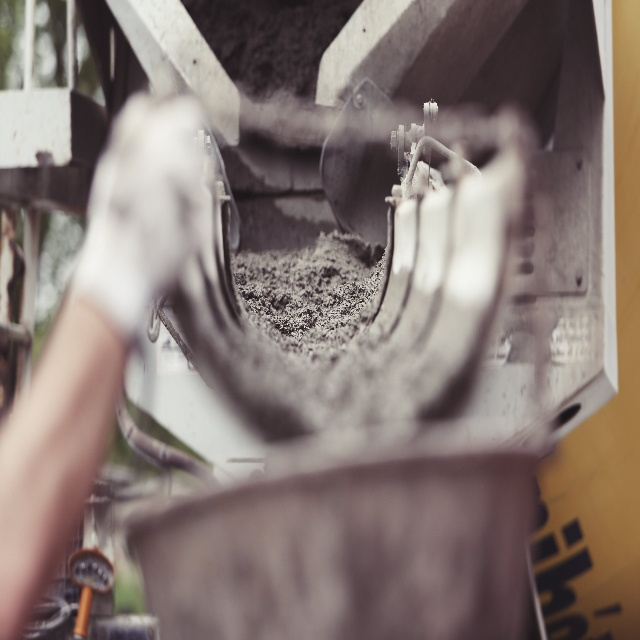Guantes: (70, 91, 211, 344)
